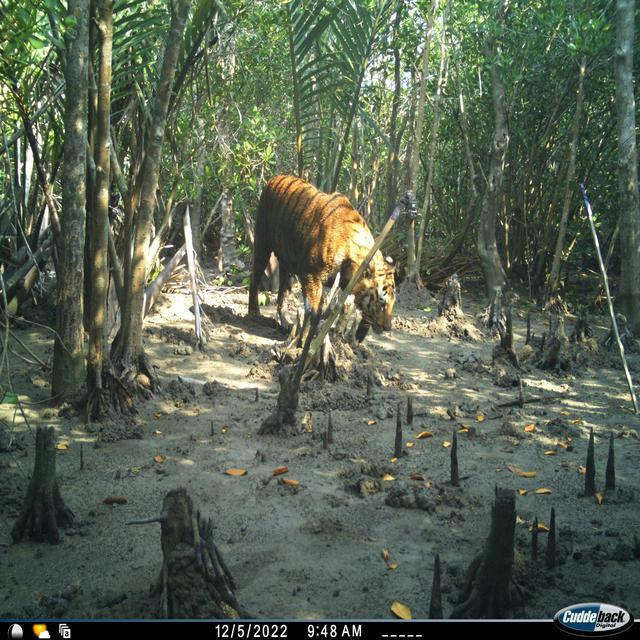tiger: (246, 172, 396, 361)
